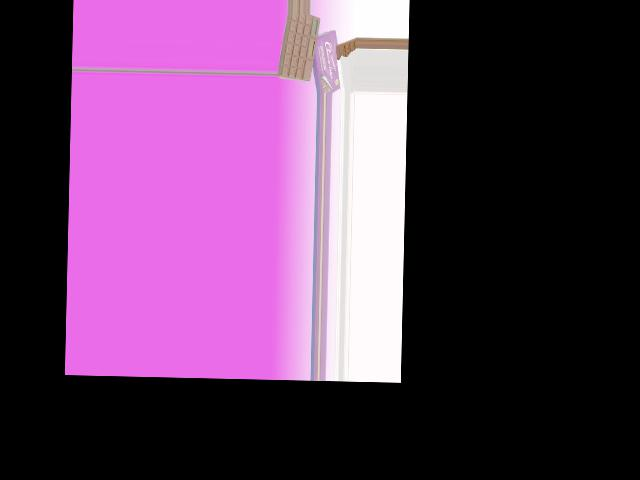chocolate: (276, 16, 321, 80)
